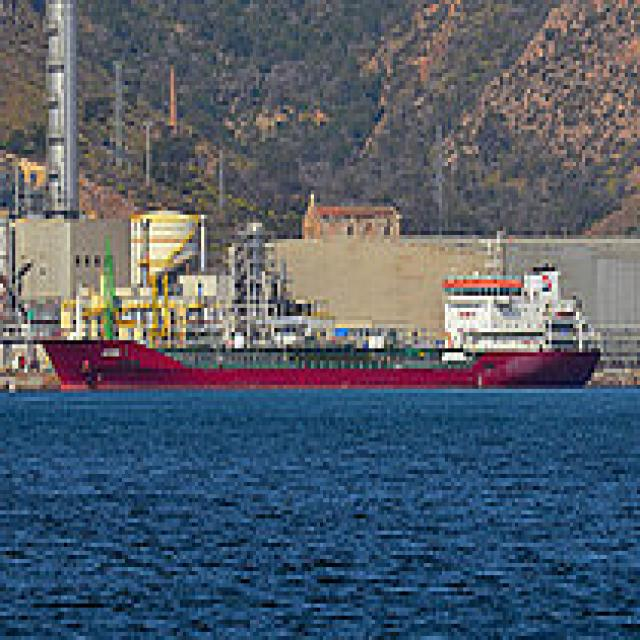Tanker: (34, 219, 606, 393)
